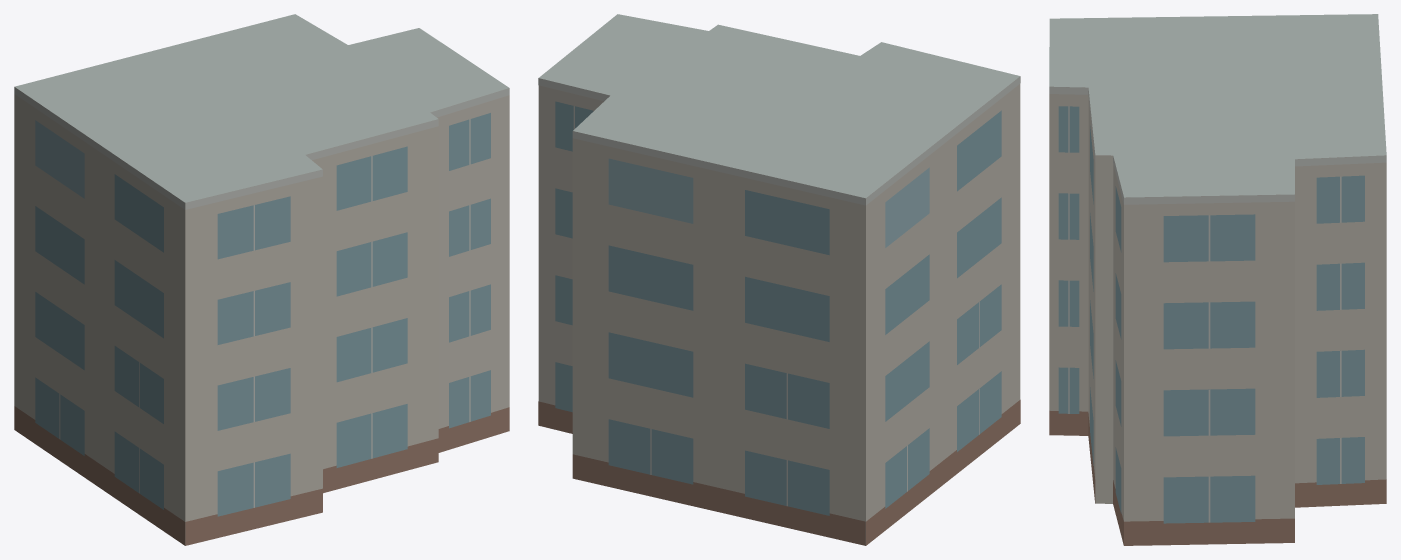
File: survey-upis-32588312.glb
3 renders of one model, left to right at view 1: azimuth 30°, elevation 25°; view 2: azimuth 150°, elevation 25°; view 3: azimuth 270°, elevation 25°, orthographic.
Visible parts, largest first — view 1: survey-upis-32588312.tmp; view 2: survey-upis-32588312.tmp; view 3: survey-upis-32588312.tmp.
Part boxes in pixels (<box>): survey-upis-32588312.tmp: <box>14,14,509,545</box>; survey-upis-32588312.tmp: <box>538,14,1020,545</box>; survey-upis-32588312.tmp: <box>1049,14,1386,545</box>.
Size of the model in its own units: 13.22 by 11.7 by 10.28.
